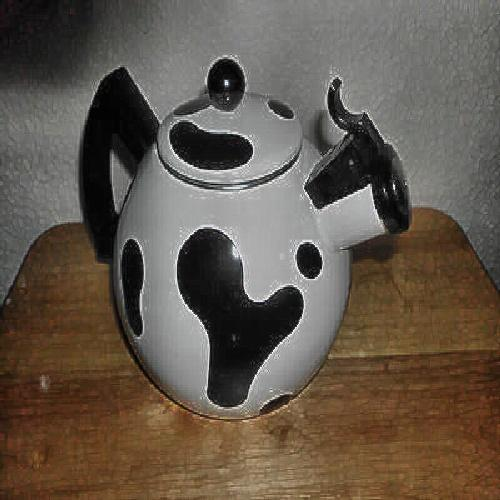kettle: (92, 61, 390, 427)
